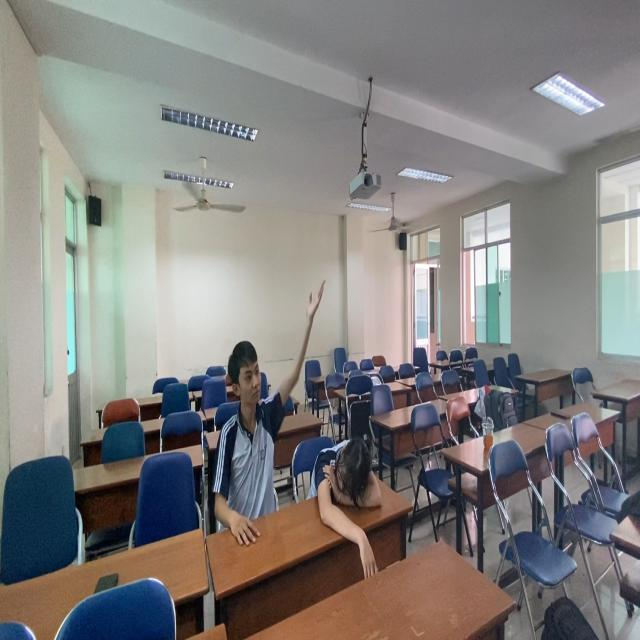raise_hand: (207, 272, 328, 548)
sleep: (310, 434, 391, 525)
